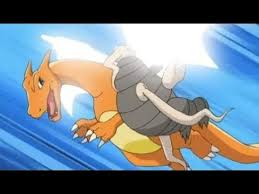charizard: (20, 25, 257, 167)
